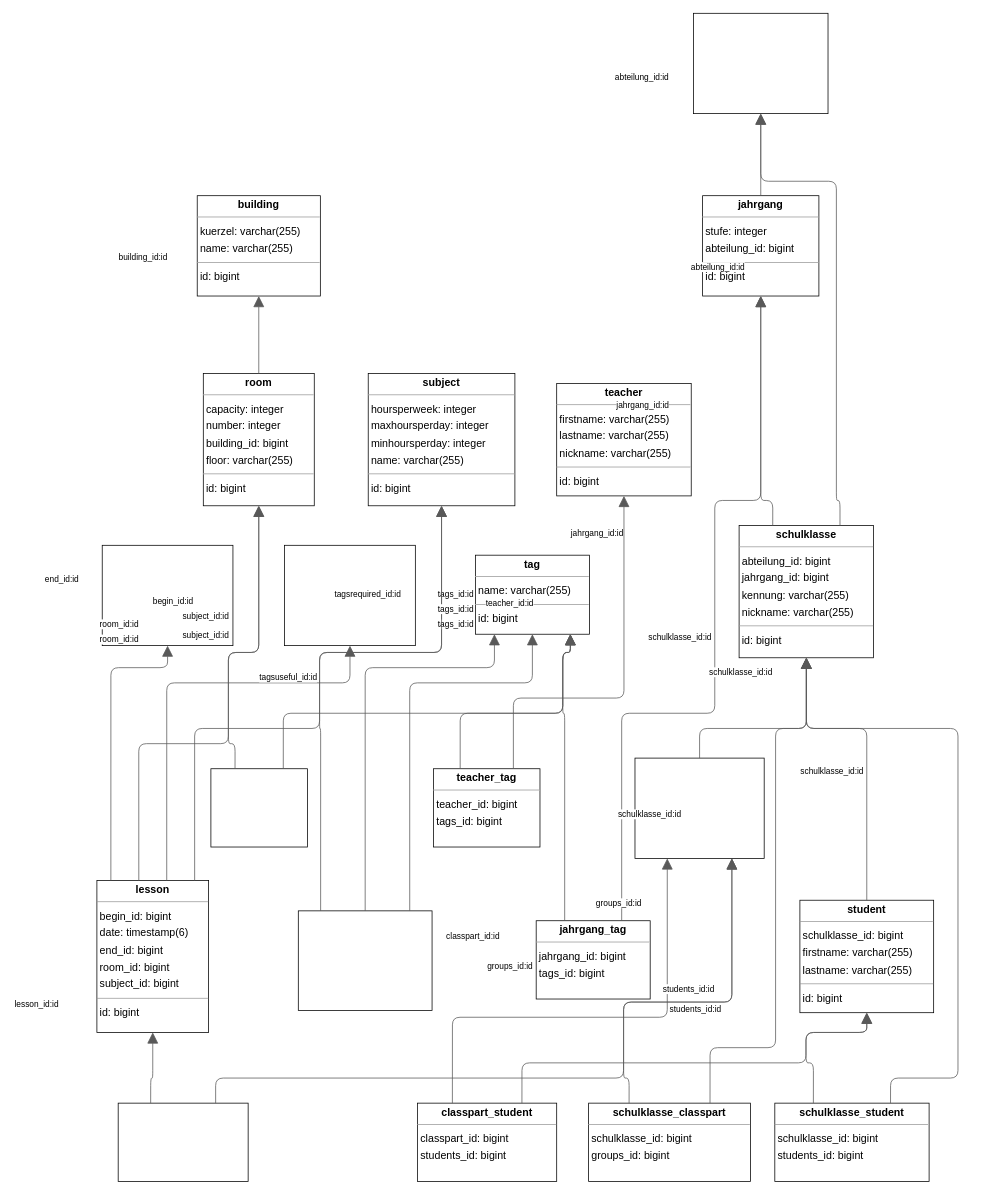
Image size: 982x1195. Some labels were removed from this diagram. The shapes that lost their labels are listed below. From the top down, each one's box as (x1, y1, x2, y2) in pixels, then its label:
(693, 13, 828, 114): abteilung name: varchar(255) nickname: varchar(255) id: bigint
(101, 545, 233, 646): lessonend lessonnumber: integer time: time(6) id: bigint
(284, 545, 415, 646): lessonbegin lessonnumber: integer time: time(6) id: bigint
(210, 768, 307, 847): room_tag room_id: bigint tags_id: bigint
(634, 757, 764, 858): classpart schulklasse_id: bigint kennung: varchar(255) id: bigint
(298, 910, 432, 1010): subject_tag subject_id: bigint tagsrequired_id: bigint tagsuseful_id: bigint
(117, 1102, 248, 1181): lesson_classpart lesson_id: bigint groups_id: bigint
